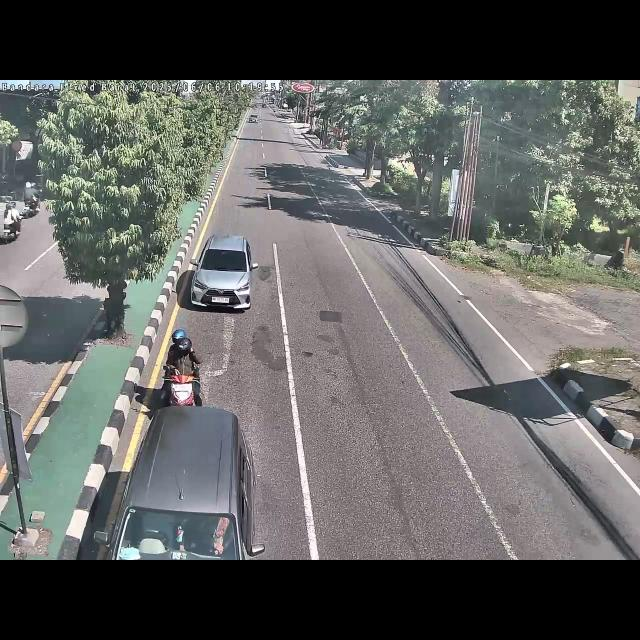Mobil: (105, 402, 259, 560), (190, 233, 256, 313)
Motor: (161, 326, 207, 426)
